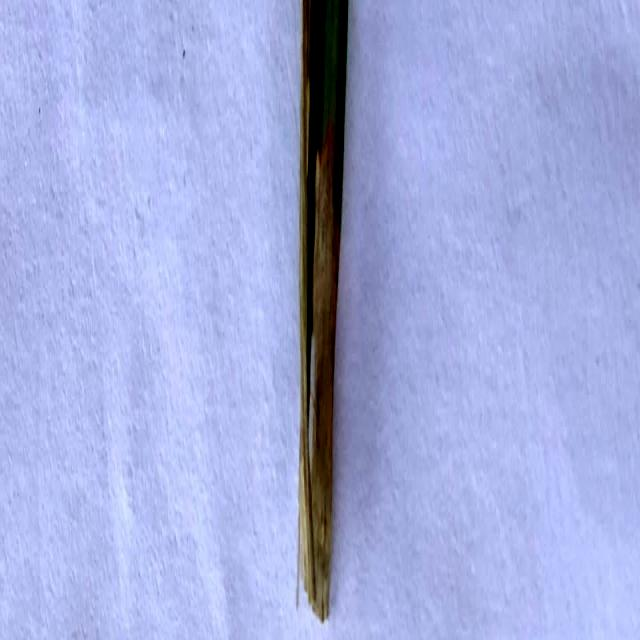BLB: (296, 0, 341, 623), (323, 0, 341, 140)
